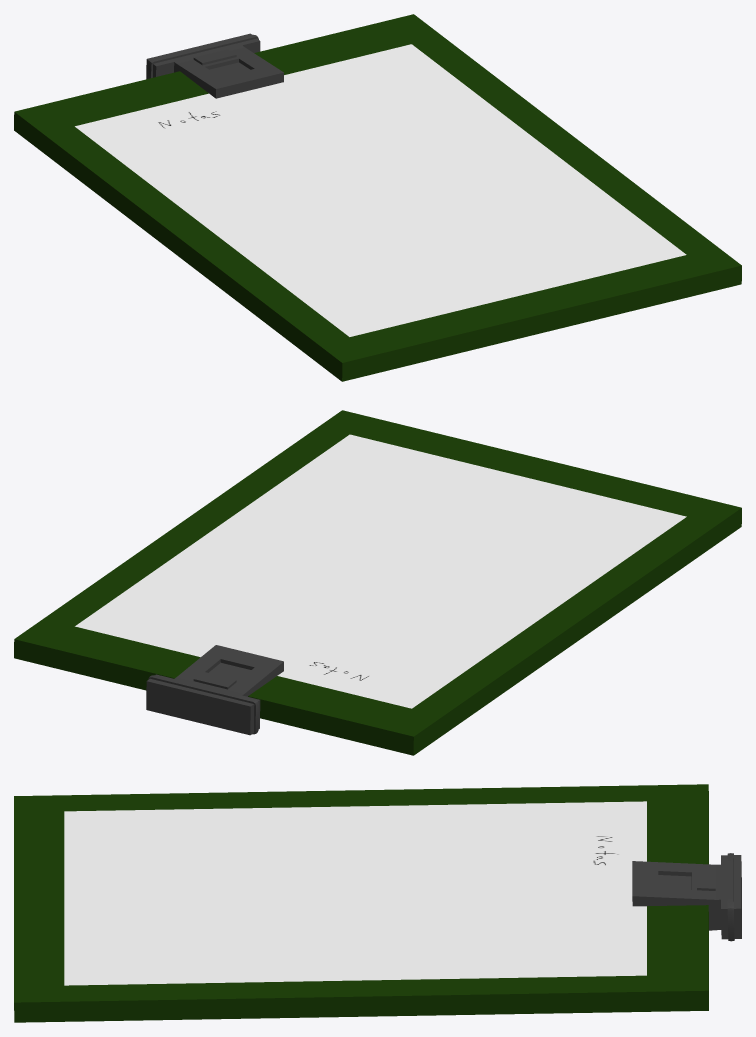
File: objClipboard.obj
The picture shows the model from 3 angles, top to bottom: view 1: azimuth 30°, elevation 25°; view 2: azimuth 150°, elevation 25°; view 3: azimuth 270°, elevation 25°; orthographic projection. The views are drawn at different scales.
Visible parts, largest first — view 1: clipboard; view 2: clipboard; view 3: clipboard.
Part boxes in pixels (x1=…): clipboard: x1=14, y1=14, x2=741, y2=381; clipboard: x1=14, y1=410, x2=741, y2=755; clipboard: x1=14, y1=784, x2=741, y2=1022.
Size of the model in its own units: 8.87 by 0.8184 by 13.22.
3 materials, 1 textured.
